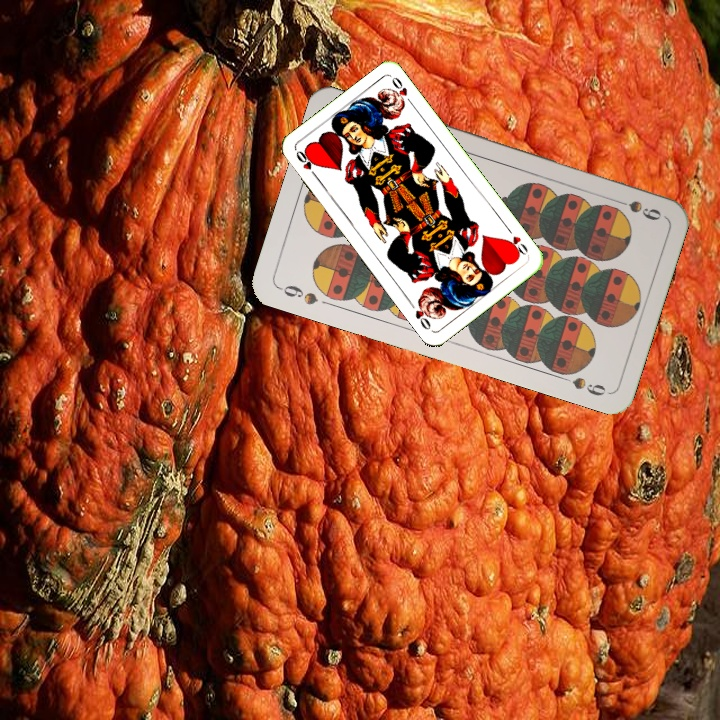HO: (502, 223, 531, 259), (292, 146, 321, 182)
S9: (607, 194, 664, 223), (275, 281, 321, 308)
